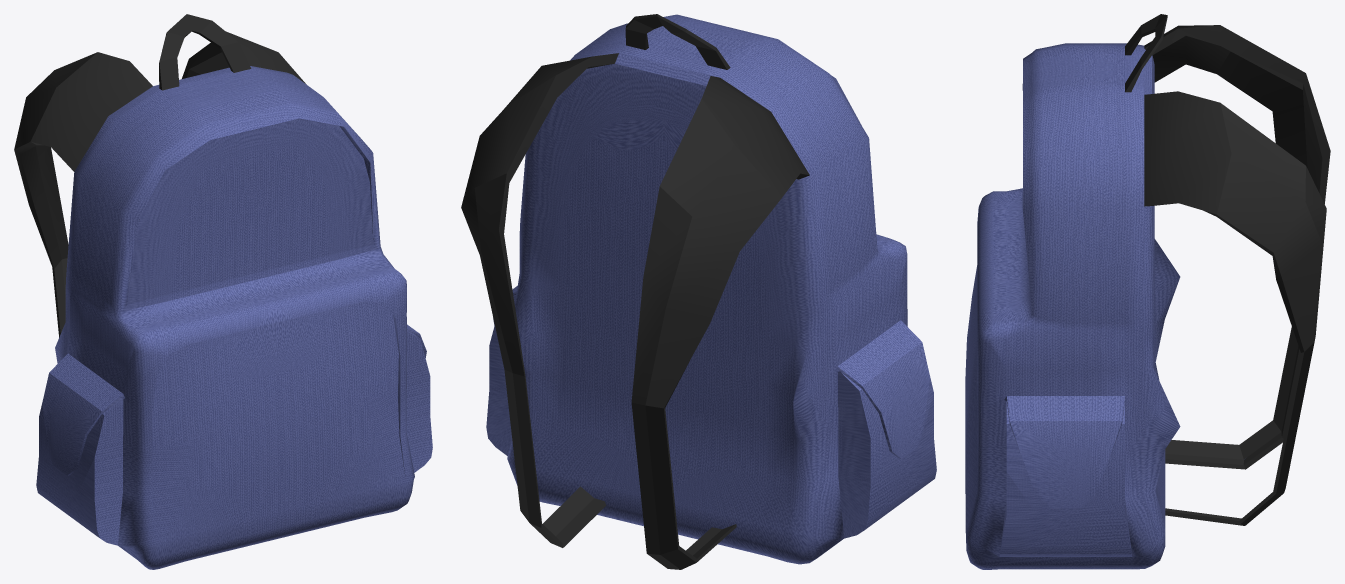
The model's file is MOCHILA.FBX.
3 views of the same model, side by side, from view 1: azimuth 30°, elevation 25°; view 2: azimuth 150°, elevation 25°; view 3: azimuth 270°, elevation 25° (orthographic). The views are drawn at different scales.
Visible parts, largest first — view 1: Box001; view 2: Box001; view 3: Box001.
Boxes of the visible parts, <box> form: Box001: <box>14,14,432,569</box>; Box001: <box>461,14,936,569</box>; Box001: <box>965,14,1330,569</box>.
Bounding box in the file's own units: 12.48 × 15.86 × 10.66.
1 material, 1 textured.
